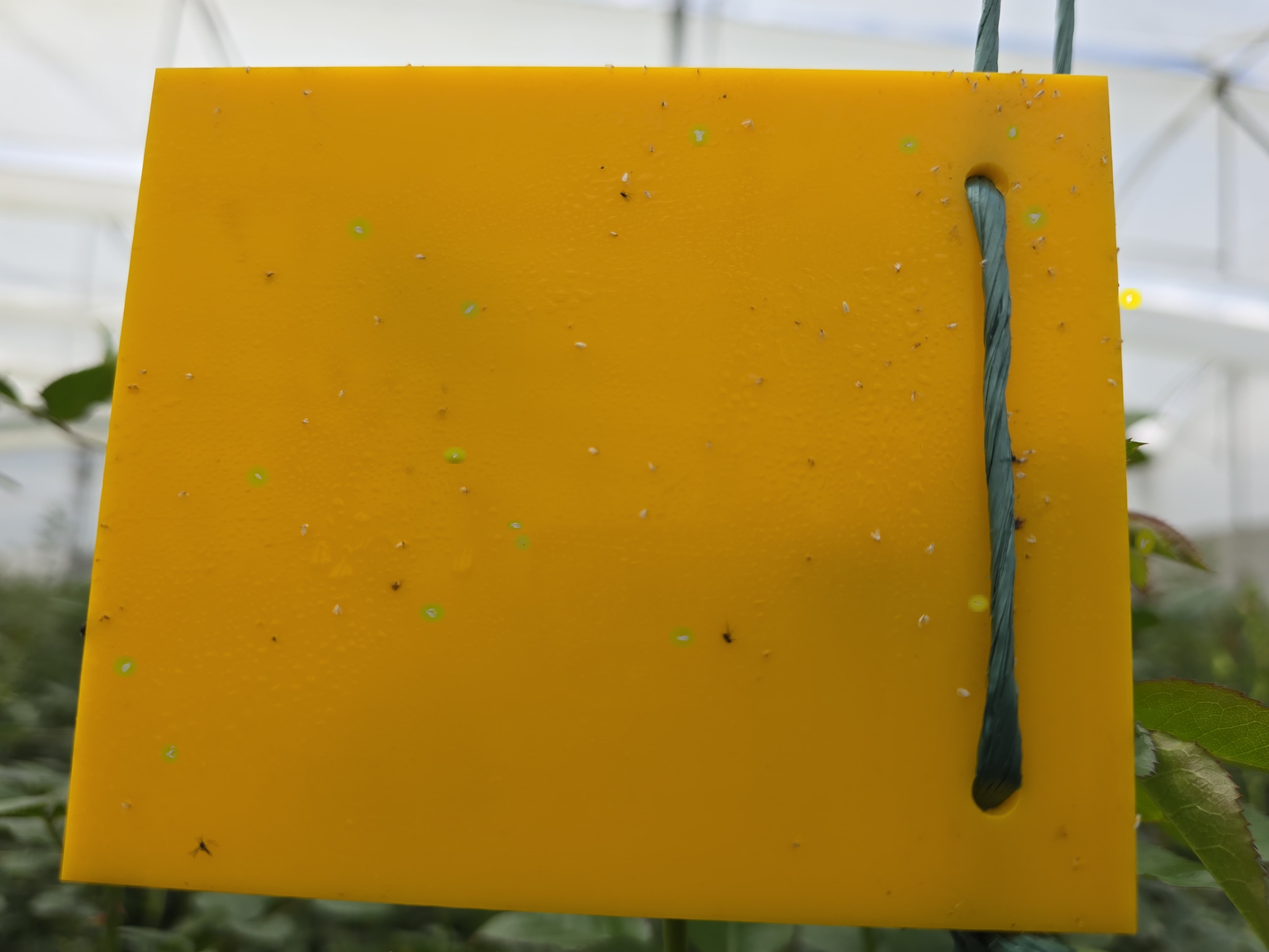WF: (1024, 208, 1044, 227), (350, 220, 369, 238), (672, 629, 692, 645), (248, 468, 266, 485), (422, 605, 442, 620), (1137, 532, 1152, 552), (116, 658, 134, 674), (1121, 291, 1139, 307), (956, 684, 972, 700), (691, 127, 707, 143), (330, 602, 345, 619), (900, 137, 917, 152), (297, 522, 312, 538), (916, 614, 932, 629), (162, 746, 177, 761), (839, 300, 853, 316), (868, 529, 884, 543), (462, 302, 477, 316), (573, 339, 590, 351), (446, 449, 463, 461), (923, 543, 937, 556), (587, 445, 601, 458), (394, 540, 408, 552), (971, 597, 985, 609), (638, 508, 650, 521), (460, 485, 473, 497), (1035, 76, 1047, 88), (1016, 470, 1028, 482), (892, 262, 904, 274), (516, 536, 528, 548), (1033, 89, 1046, 100), (1011, 182, 1024, 193), (646, 461, 657, 474), (1107, 377, 1118, 389), (1026, 534, 1037, 546), (930, 166, 943, 176), (945, 323, 959, 332), (184, 372, 196, 382), (608, 230, 620, 240), (1052, 89, 1062, 101), (299, 417, 312, 426), (971, 82, 981, 93), (995, 104, 1005, 115), (1007, 127, 1017, 138), (509, 521, 522, 529), (1024, 99, 1034, 109), (1019, 77, 1028, 88), (339, 388, 347, 400), (415, 254, 428, 261), (622, 173, 630, 184), (985, 73, 993, 83), (1101, 156, 1108, 166)
